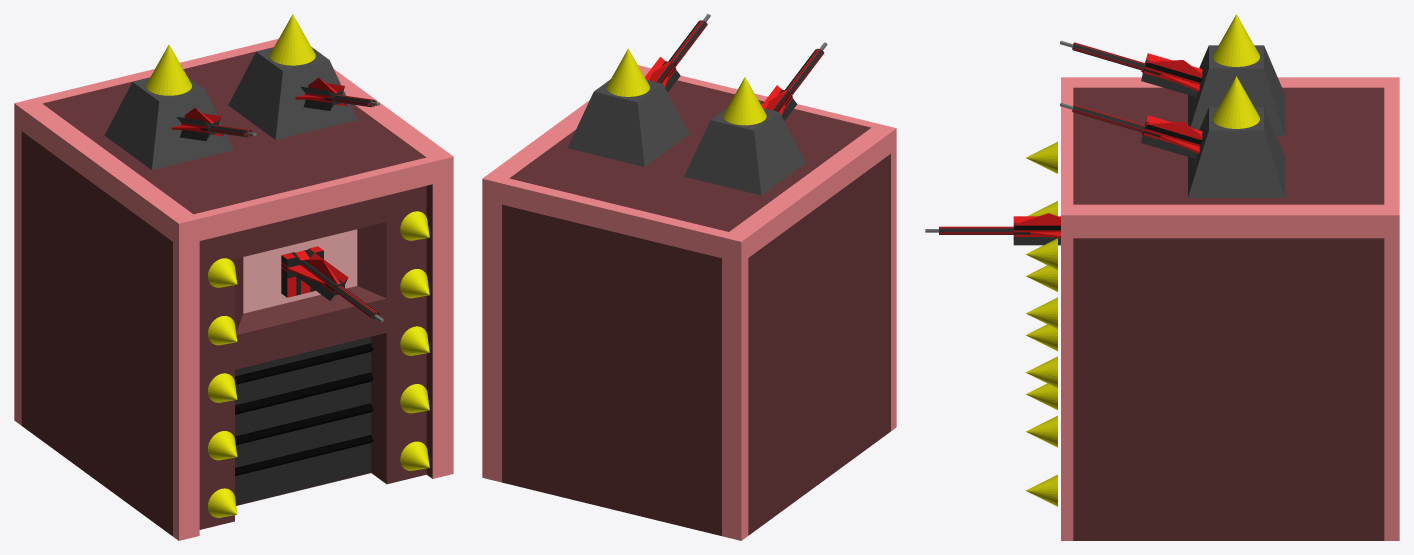
The picture shows the model from 3 angles, left to right: view 1: azimuth 30°, elevation 25°; view 2: azimuth 150°, elevation 25°; view 3: azimuth 270°, elevation 25°; orthographic projection. The views are drawn at different scales.
Visible parts, largest first — view 1: Base3, Portón3, SoporteArmasSuperiores, PuasFrontales, ArmaFrontal, PuasSuperiores, ArmasSuperiores; view 2: Base3, SoporteArmasSuperiores, ArmasSuperiores, PuasSuperiores; view 3: Base3, SoporteArmasSuperiores, PuasFrontales, ArmasSuperiores, PuasSuperiores, ArmaFrontal.
Boxes of the visible parts, box(x1,y1,x2,y2) form: Base3: box(14, 38, 453, 540); Portón3: box(235, 336, 373, 505); SoporteArmasSuperiores: box(104, 47, 357, 169); PuasFrontales: box(208, 211, 429, 517); ArmaFrontal: box(281, 246, 383, 321); PuasSuperiores: box(146, 14, 315, 95); ArmasSuperiores: box(171, 77, 380, 140); Base3: box(482, 65, 896, 540); SoporteArmasSuperiores: box(567, 79, 805, 195); ArmasSuperiores: box(645, 14, 827, 120); PuasSuperiores: box(606, 48, 766, 125); Base3: box(1061, 77, 1399, 540); SoporteArmasSuperiores: box(1188, 45, 1284, 197); PuasFrontales: box(1026, 142, 1057, 506); ArmasSuperiores: box(1060, 40, 1202, 158); PuasSuperiores: box(1213, 14, 1259, 128); ArmaFrontal: box(925, 213, 1060, 245).
Bounding box in the file's own units: 200 × 289 × 291.
